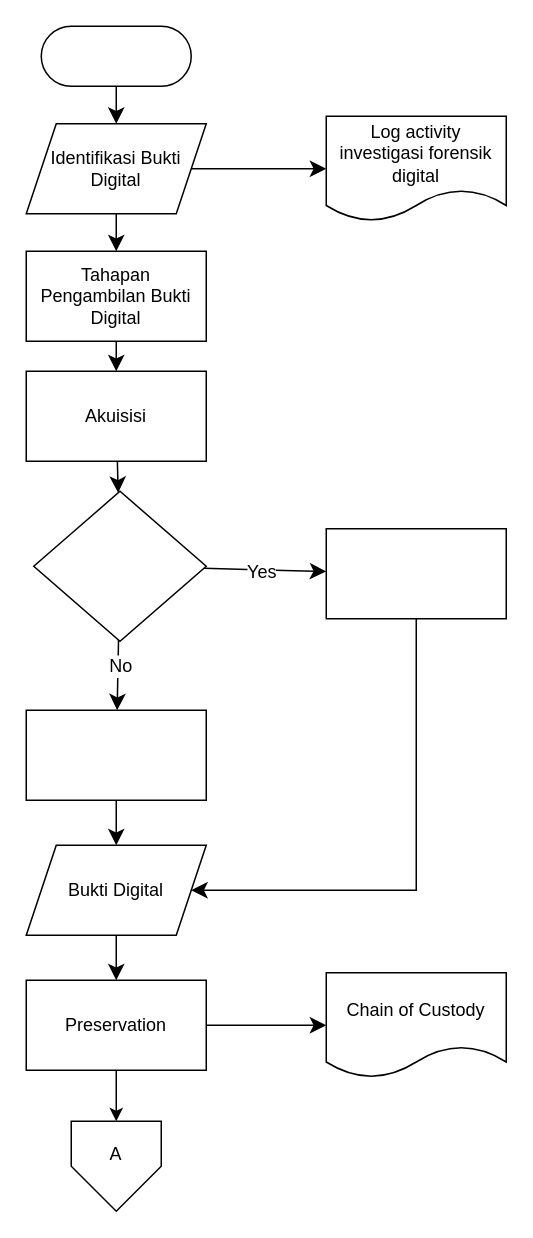
This 533x1238 diagram has some shape labels left out. The shapes that lost their labels are listed below. From the top down, each one's centre as x and y in pixels, then its label:
the point at 115,55: Start
the point at 119,565: System sedang ON
the point at 415,573: Tahapan akuisisi secara Live Acquisition
the point at 115,754: Tahapan akuisisi secara Dead/Offline Acquisition
